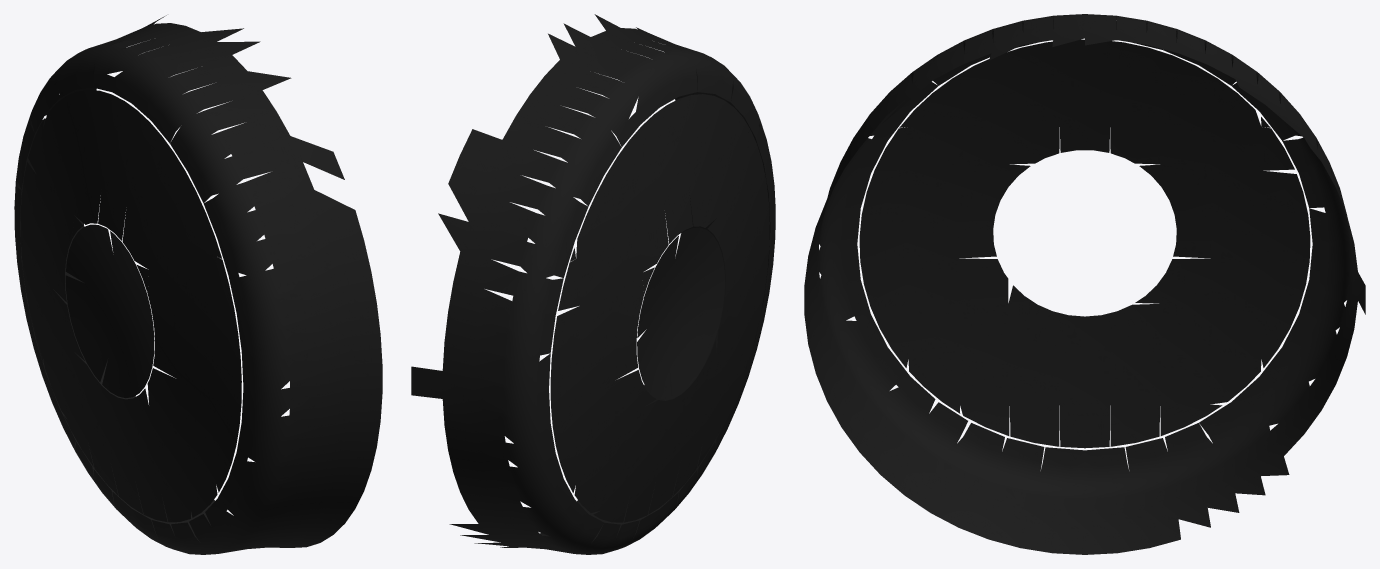
The picture shows the model from 3 angles, left to right: view 1: azimuth 30°, elevation 25°; view 2: azimuth 150°, elevation 25°; view 3: azimuth 270°, elevation 25°; orthographic projection. The views are drawn at different scales.
Size of the model in its own units: 0.0104 by 0.037 by 0.0369.
